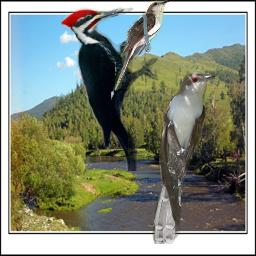Cuckoo: (152, 70, 217, 244), (115, 0, 169, 91)
Woodpecker: (61, 5, 158, 171)
